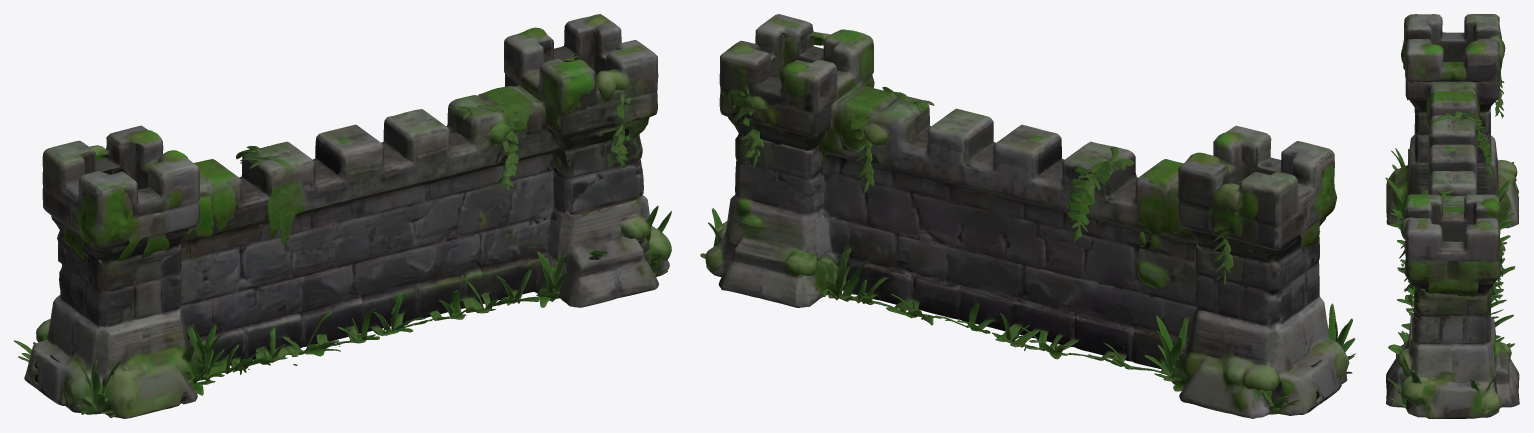
Rendered from lanes_wall.glb.
3 views of the same model, side by side, from view 1: azimuth 30°, elevation 25°; view 2: azimuth 150°, elevation 25°; view 3: azimuth 270°, elevation 25° (orthographic). The views are drawn at different scales.
Parts seen in each view (by area): view 1: geometry_0; view 2: geometry_0; view 3: geometry_0.
Boxes of the visible parts, x1=… form: geometry_0: x1=14, y1=14, x2=671, y2=418; geometry_0: x1=700, y1=14, x2=1356, y2=418; geometry_0: x1=1385, y1=14, x2=1519, y2=418.
Bounding box in the file's own units: 0.9785 × 0.3567 × 0.2318.
1 material, 1 textured.
